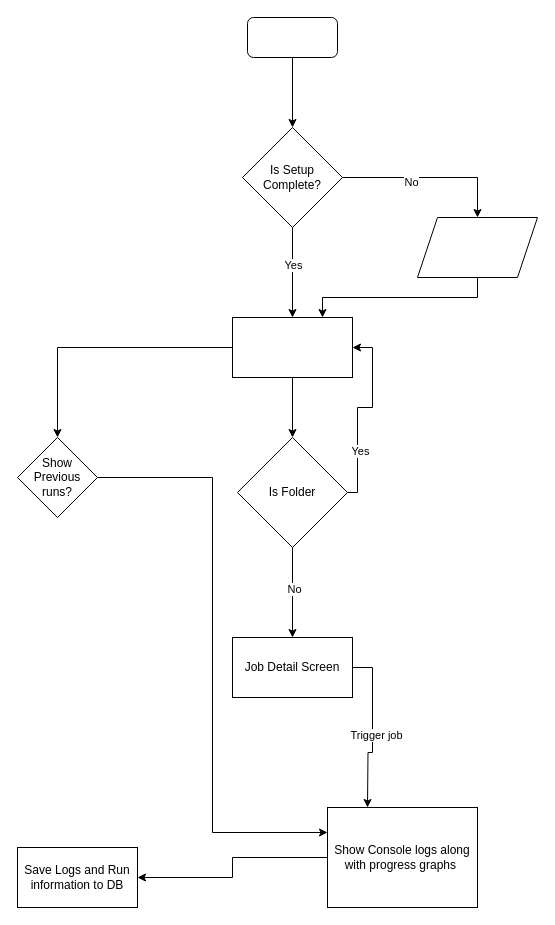
The diagram is 555 pixels wide and 925 high, and some of its shapes have lost their labels. Here are the shapes that lost their labels. From the top down, the box of each, then its label:
(246, 16, 338, 58): Enter
(416, 216, 538, 278): 1. Jenkins Url 2. Username 3. API Key
(232, 316, 352, 378): Folder Content Screen
